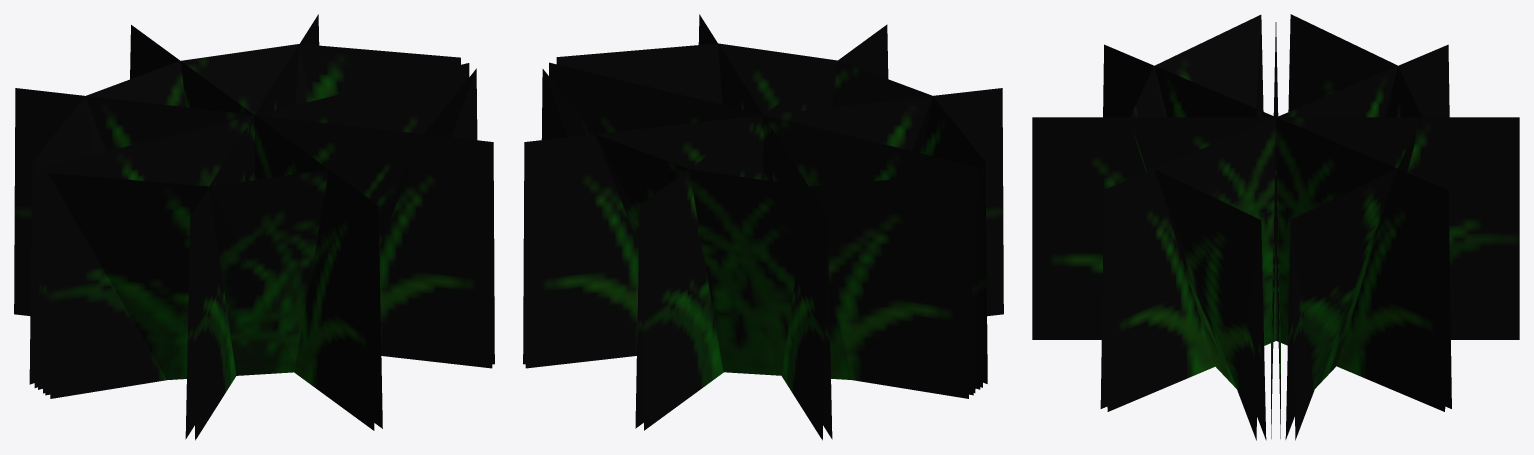
File: grass_bush.gltf
3 views of the same model, side by side, from view 1: azimuth 30°, elevation 25°; view 2: azimuth 150°, elevation 25°; view 3: azimuth 270°, elevation 25° (orthographic).
Parts seen in each view (by area): view 1: grass_bush; view 2: grass_bush; view 3: grass_bush.
Boxes of the visible parts, x1,y1,x2,y2 form: grass_bush: [14, 14, 494, 440]; grass_bush: [523, 14, 1003, 440]; grass_bush: [1032, 14, 1519, 440].
Bounding box in the file's own units: 1 × 0.5 × 1.
1 material, 1 textured.
